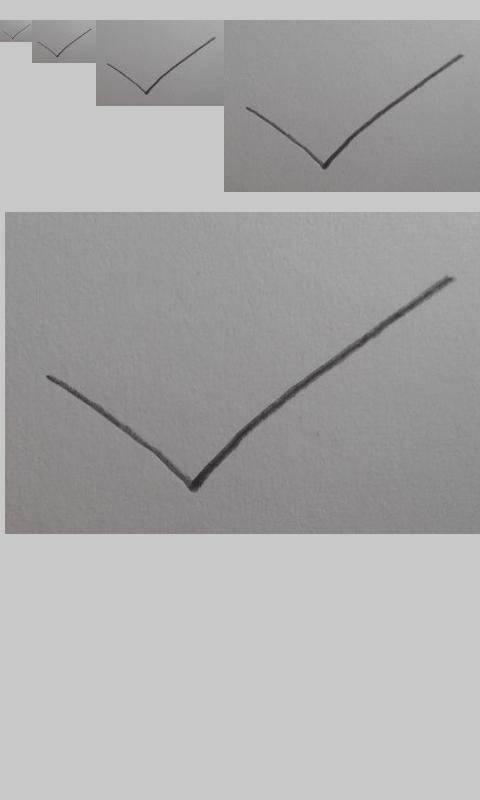check_box: (46, 275, 453, 492), (246, 54, 463, 170), (106, 37, 216, 95), (38, 28, 91, 57), (4, 24, 30, 40)
